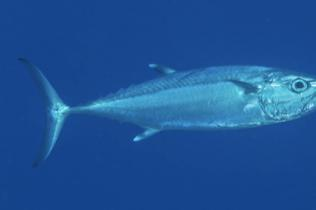Scombridae -Tunas-: (11, 52, 316, 171)
